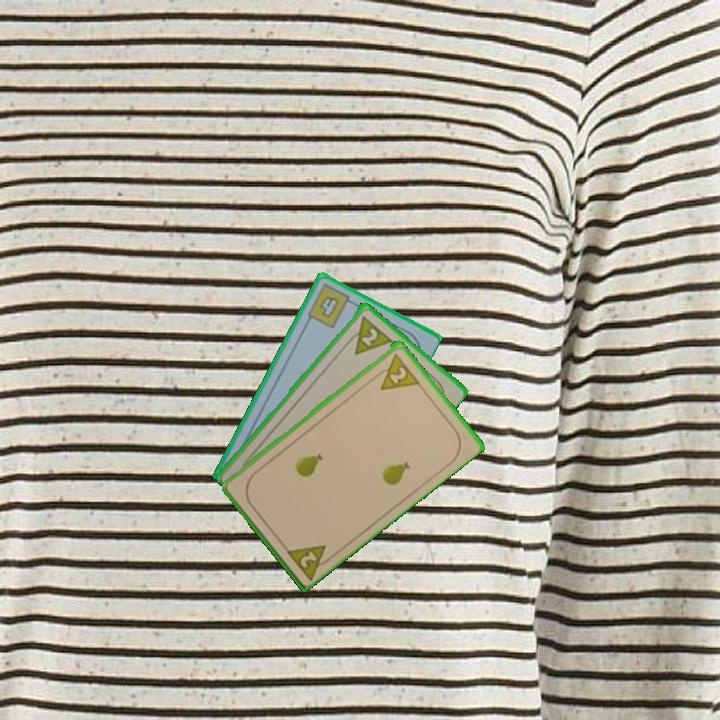2p: (370, 348, 422, 393), (296, 547, 320, 571), (358, 324, 381, 349)
4b: (304, 280, 358, 331)
